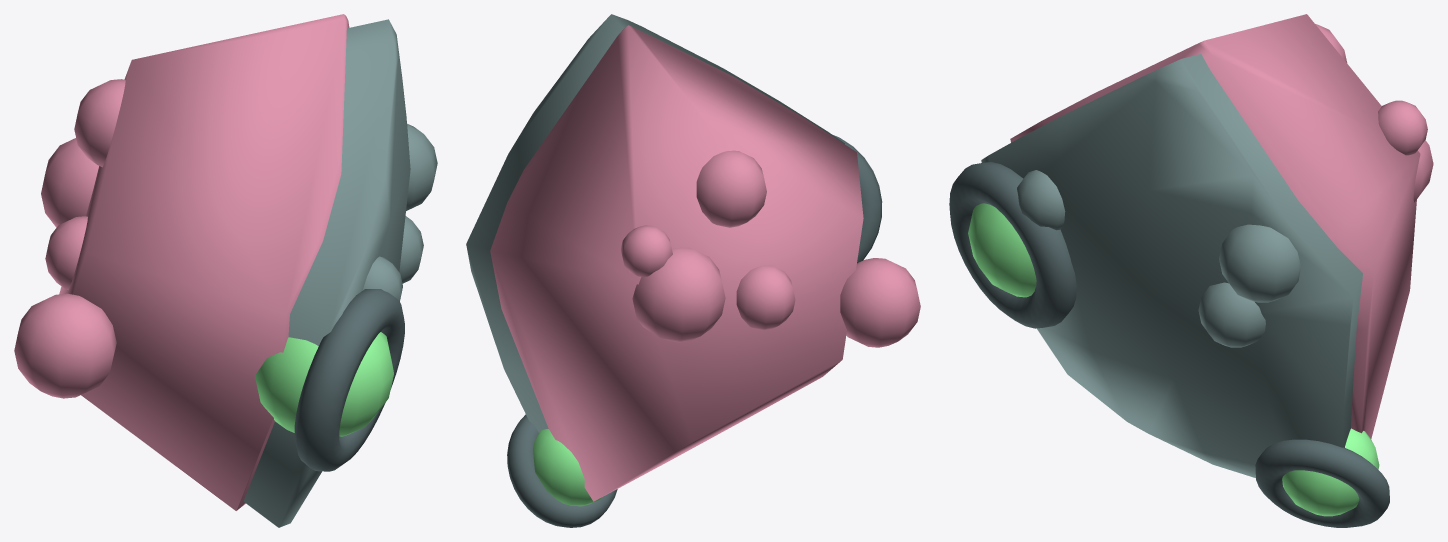
Rendered from chunk17.glb.
The picture shows the model from 3 angles, left to right: view 1: azimuth 30°, elevation 25°; view 2: azimuth 150°, elevation 25°; view 3: azimuth 270°, elevation 25°; orthographic projection. The views are drawn at different scales.
Parts seen in each view (by area): view 1: flesh, skin, lip, glow; view 2: flesh, skin, lip, glow; view 3: skin, flesh, lip, glow.
Boxes of the visible parts, x1,y1,x2,y2 form: flesh: (14,14,349,510); skin: (243,19,437,527); lip: (294,289,404,471); glow: (255,332,393,436); flesh: (490,25,920,501); skin: (466,14,844,432); lip: (507,135,882,527); glow: (533,429,603,506); skin: (981,54,1362,477); flesh: (1010,14,1433,438); lip: (949,162,1389,527); glow: (968,203,1379,516).
Bounding box in the file's own units: 0.8895 × 1.01 × 0.8998.
